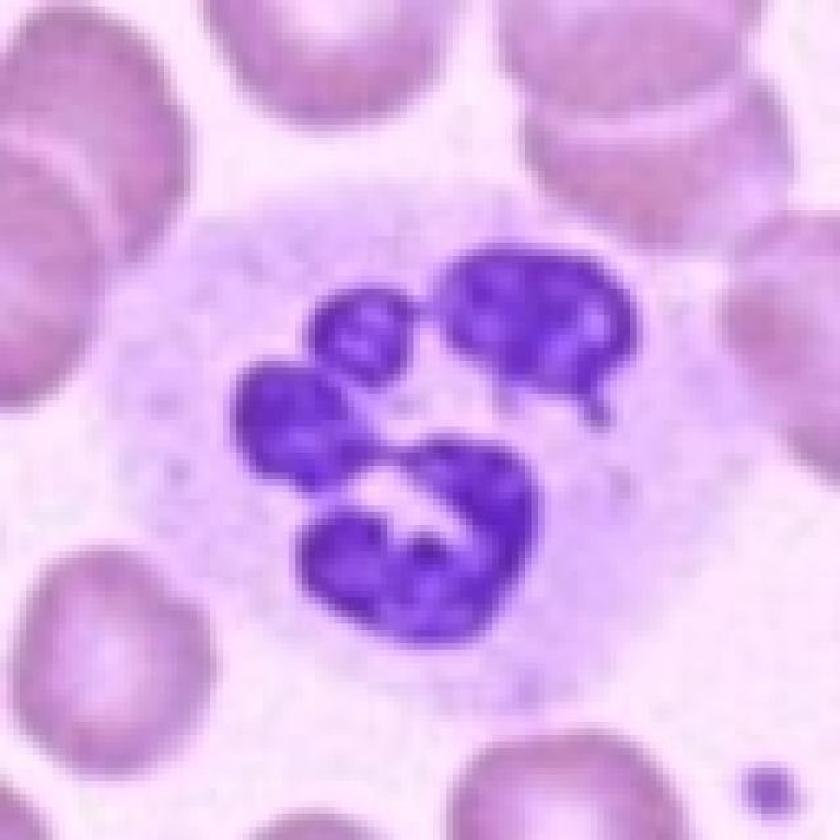neutrophil: (115, 157, 655, 643)
